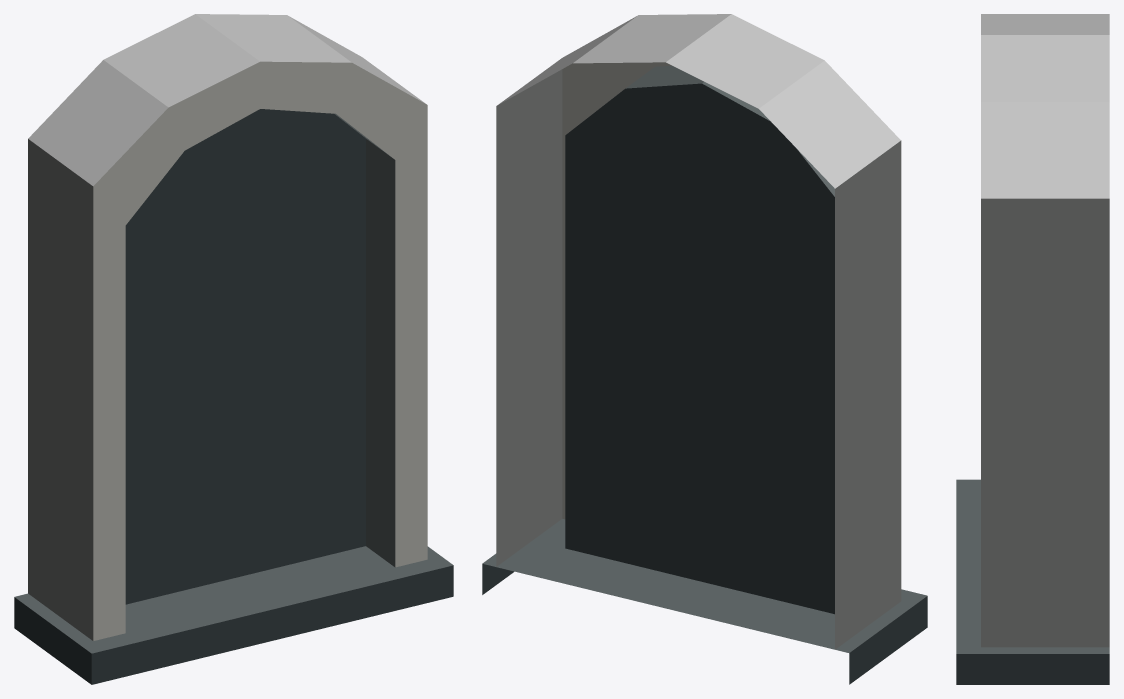
File: TB_CITY_BD_Door_Arch_A.FBX
3 views of the same model, side by side, from view 1: azimuth 30°, elevation 25°; view 2: azimuth 150°, elevation 25°; view 3: azimuth 270°, elevation 25° (orthographic). The views are drawn at different scales.
Parts seen in each view (by area): view 1: TB_CITY_BD_Door_Arch_A; view 2: TB_CITY_BD_Door_Arch_A; view 3: TB_CITY_BD_Door_Arch_A.
Part boxes in pixels (x1=…): TB_CITY_BD_Door_Arch_A: x1=14, y1=14, x2=453, y2=684; TB_CITY_BD_Door_Arch_A: x1=482, y1=14, x2=927, y2=684; TB_CITY_BD_Door_Arch_A: x1=956, y1=14, x2=1109, y2=684.
Size of the model in its own units: 3.33 by 5.01 by 1.24.
